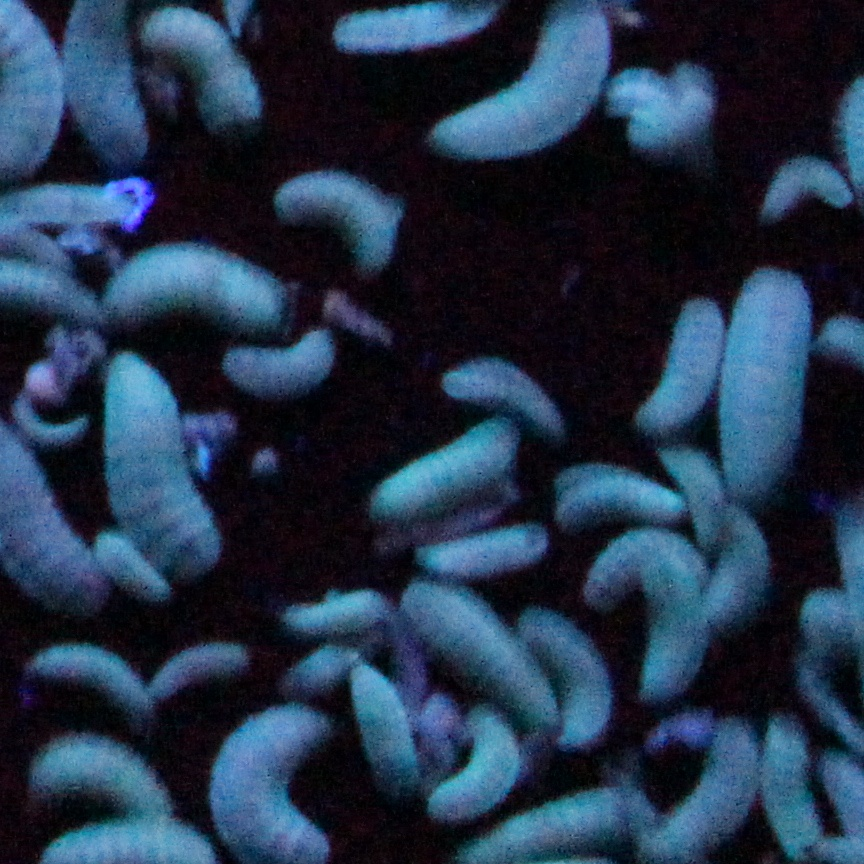larve: (85, 345, 238, 601), (393, 578, 561, 735), (715, 270, 810, 494), (87, 229, 290, 327), (362, 401, 505, 524), (626, 281, 731, 444), (264, 163, 413, 276), (434, 340, 574, 430), (31, 628, 162, 721), (749, 142, 862, 235), (221, 314, 336, 398), (551, 457, 679, 532), (141, 633, 249, 715), (79, 535, 184, 617), (408, 511, 548, 571)
